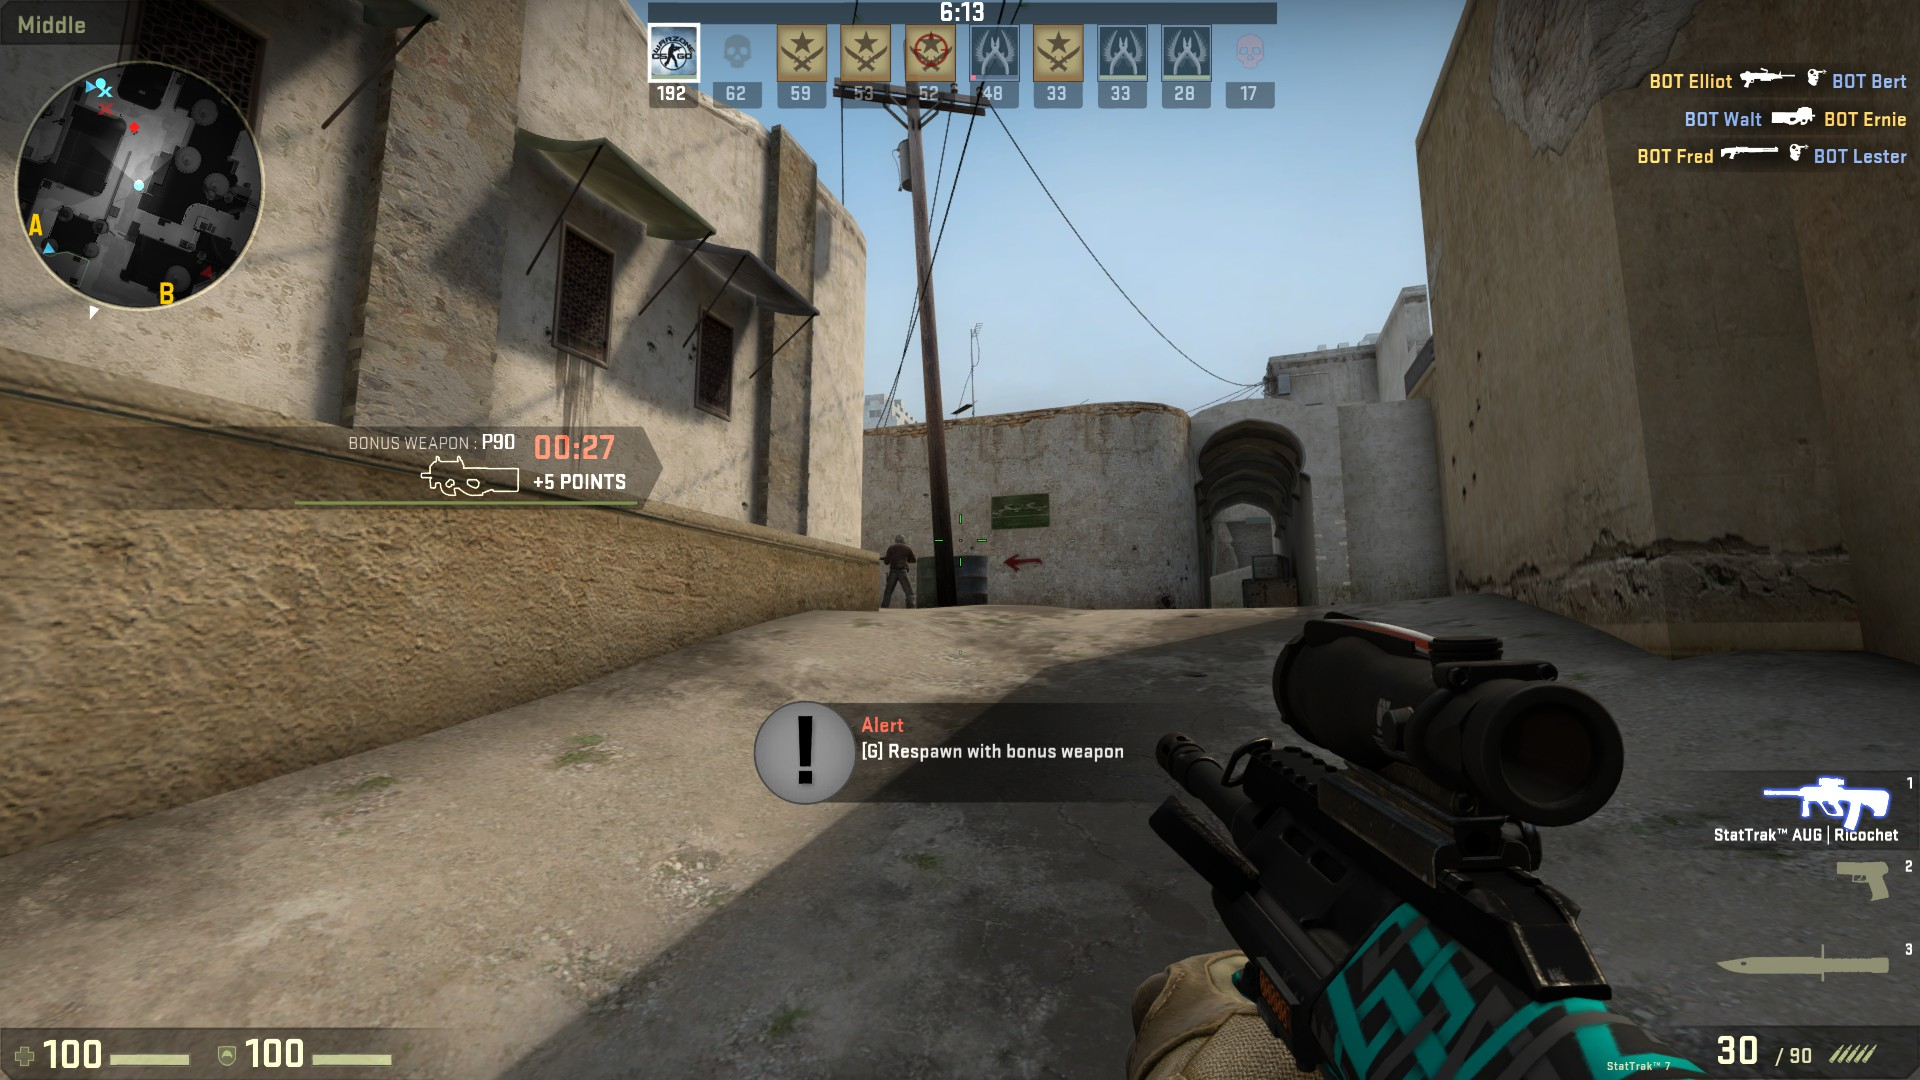t: (880, 533, 918, 613)
th: (891, 533, 907, 549)
